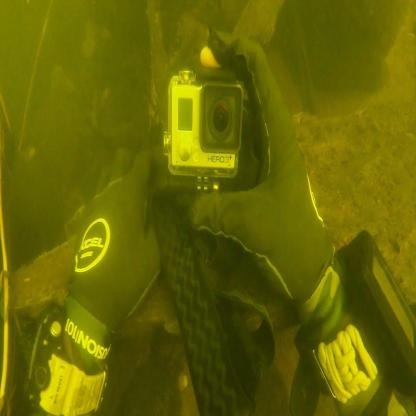electronics: (162, 67, 245, 185)
